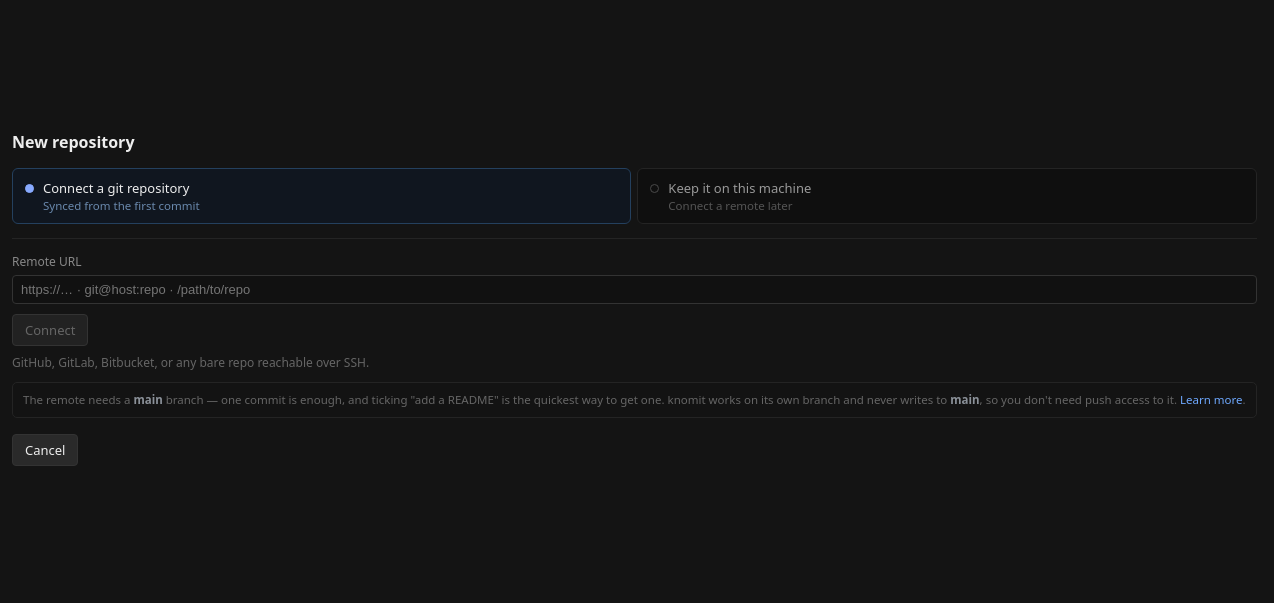
Test case: the wizard against a fake git host › every reachable outcome reports itself › a populated remote names its branches, and offers the branch step
The image size is (1274, 603).
In the field with test id "create-url": (634, 290) [12,275,1257,304], type "https://h/existing.git"
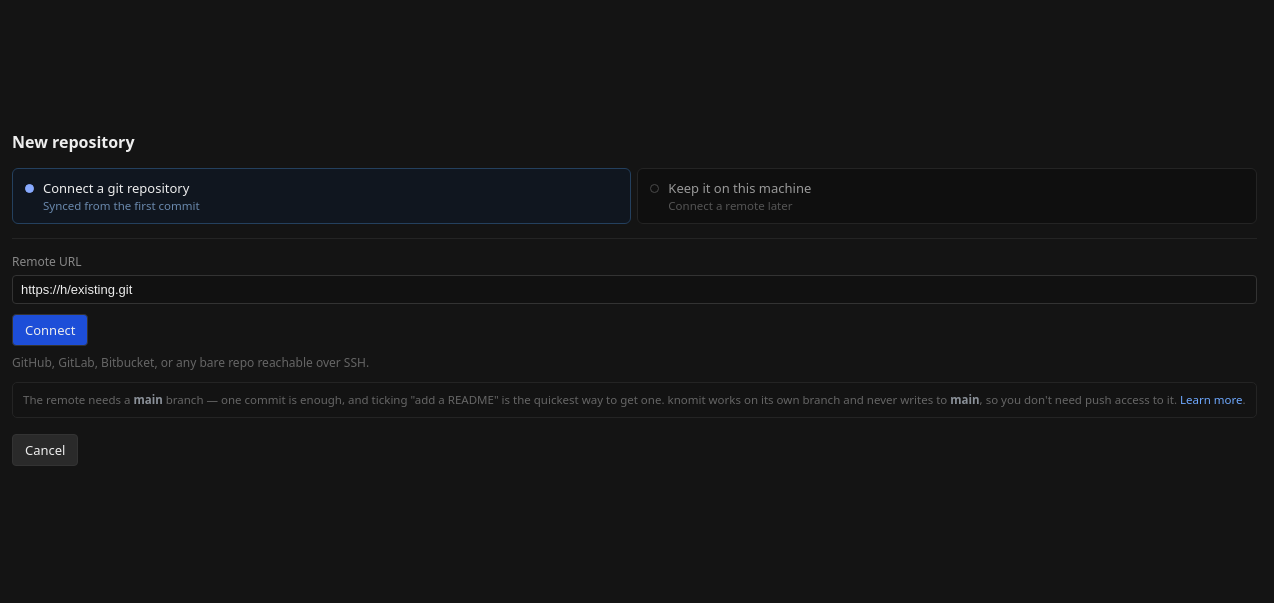
Click the button with test id "probe-button": (50, 330) [12,314,88,346]
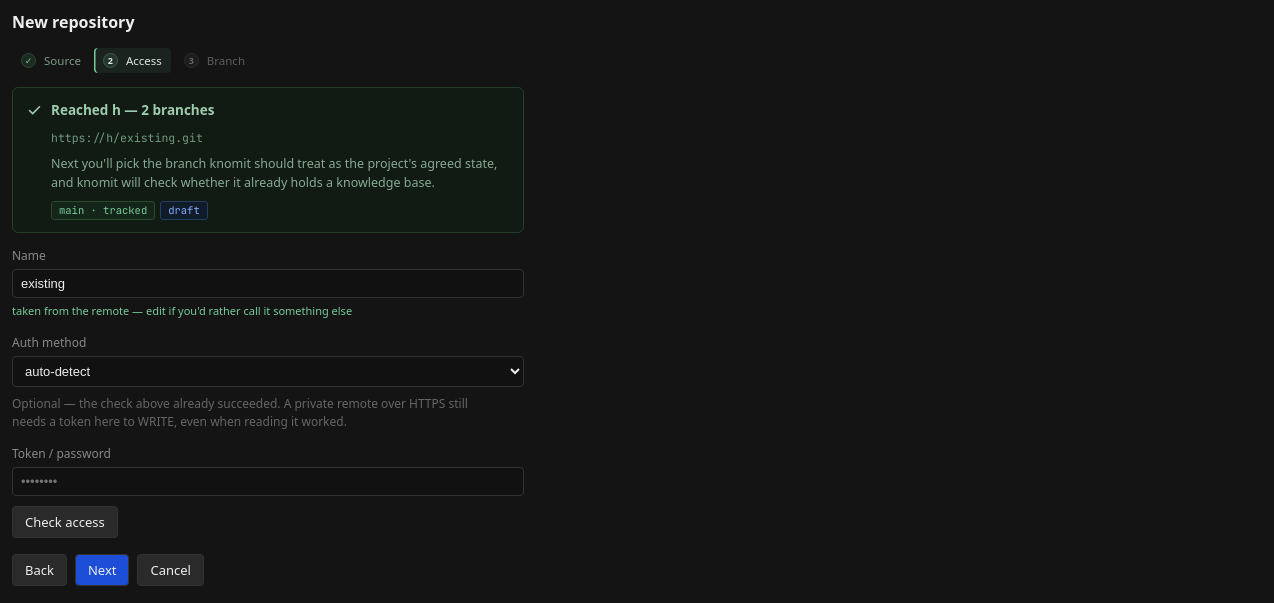
Now the element with test id "step-access" is shown, box [12,87,524,538]
Now the element with test id "probe-branches" shows "draft", box [168,203,200,217]
Now the element with test id "outcome-card" shows "branch", box [51,155,497,191]
